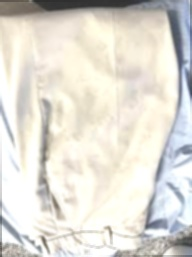oil: (49, 98, 86, 135)
